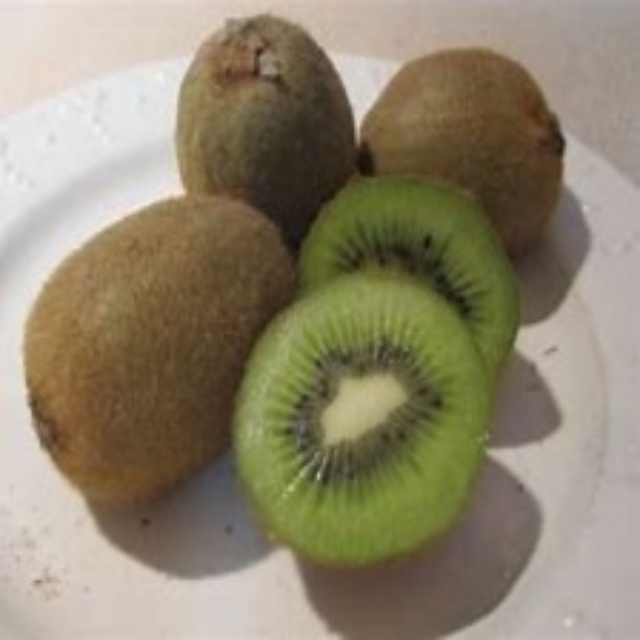kiwi: (262, 167, 491, 576), (17, 187, 295, 496), (364, 44, 562, 246), (174, 12, 351, 232)
